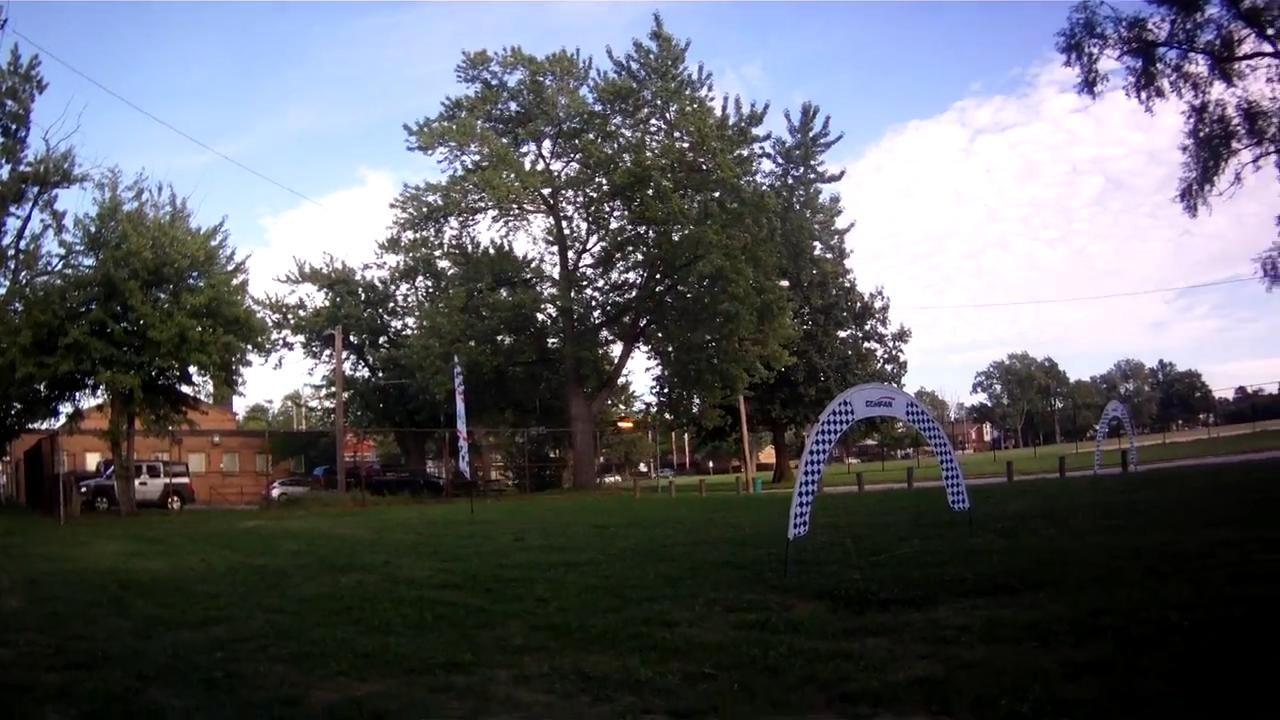gate: (786, 380, 972, 552)
